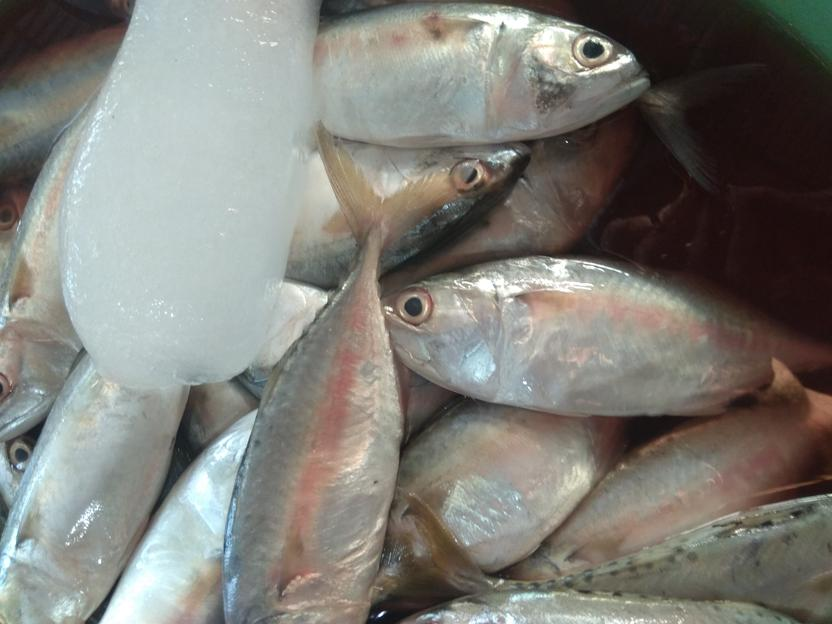Fish head: (489, 18, 651, 137), (382, 271, 508, 398), (384, 145, 534, 247), (1, 318, 77, 441)
Fish tail: (313, 119, 479, 245), (387, 484, 491, 600)
